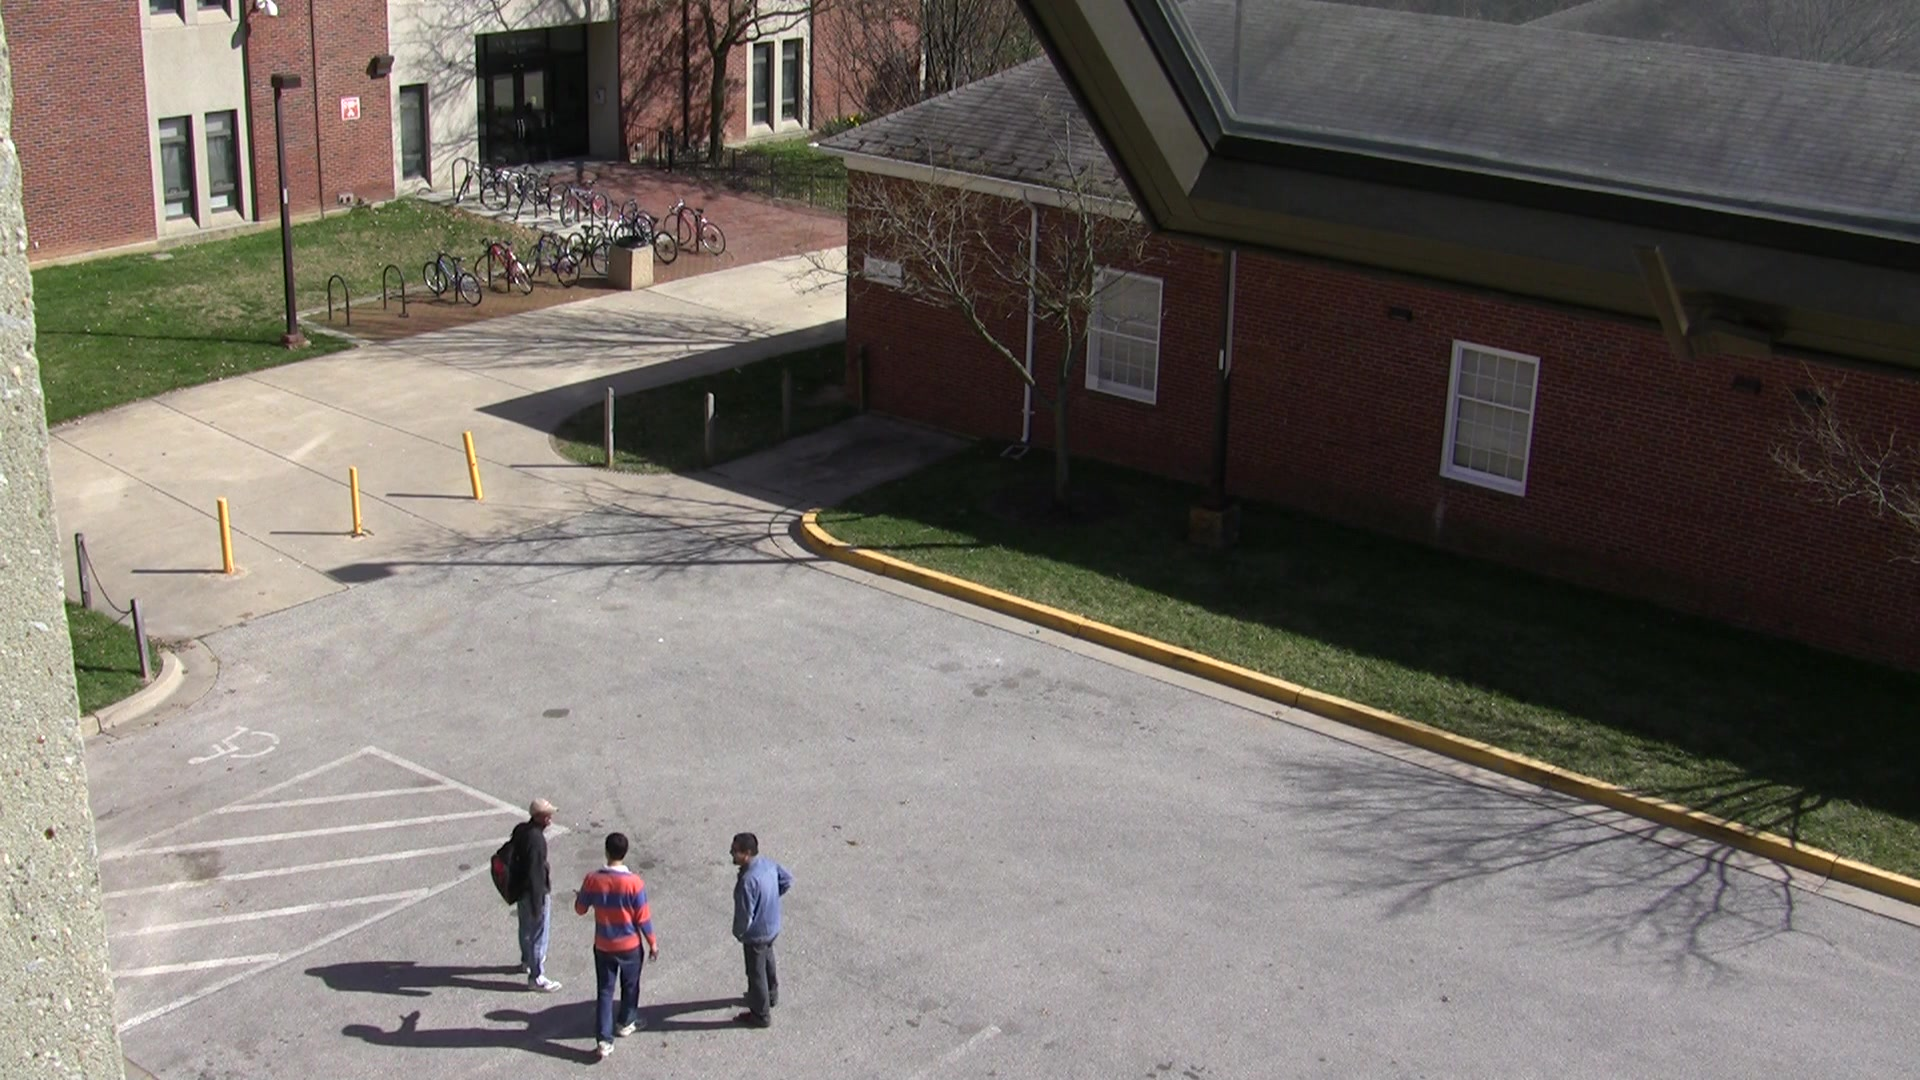person: (569, 811, 665, 1065), (706, 824, 813, 1038), (467, 782, 571, 997)
